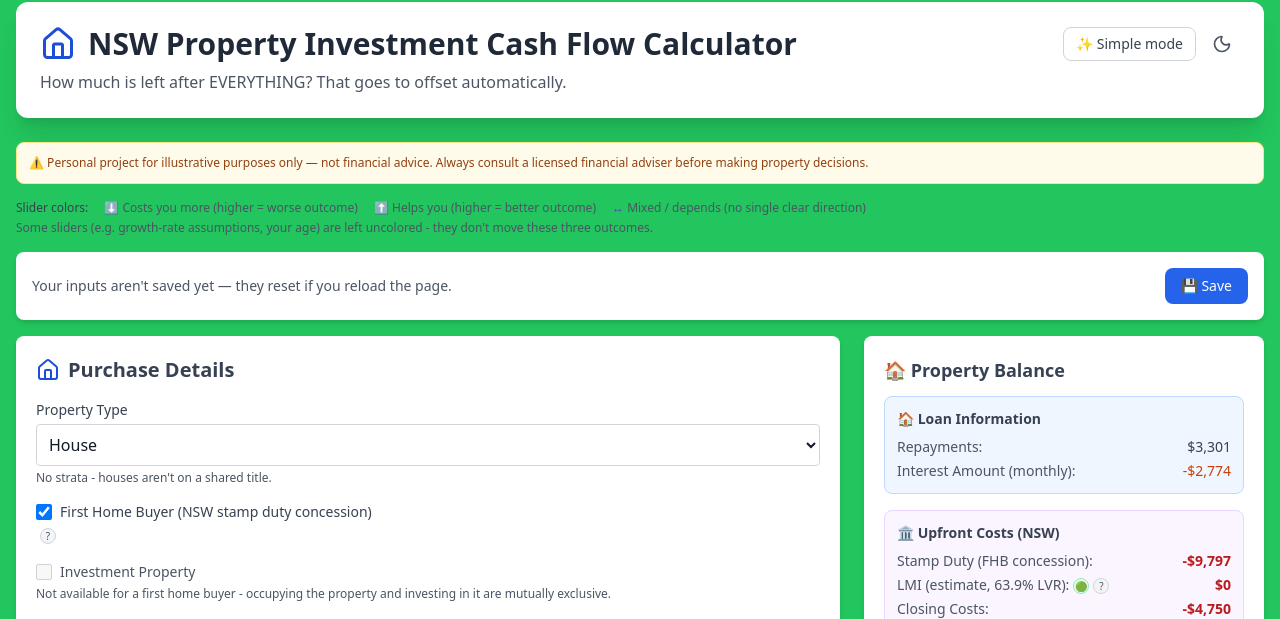
Test case: First Home Buyer / Investment Property mutual exclusion (TODO-38/44) › checking Investment Property (with FHB off) disables FHB and seeds Land Tax/Property Management
Step 1. Click the checkbox labelled "First Home Buyer (NSW stamp duty concession)" → (44, 512), box [36,504,52,520]
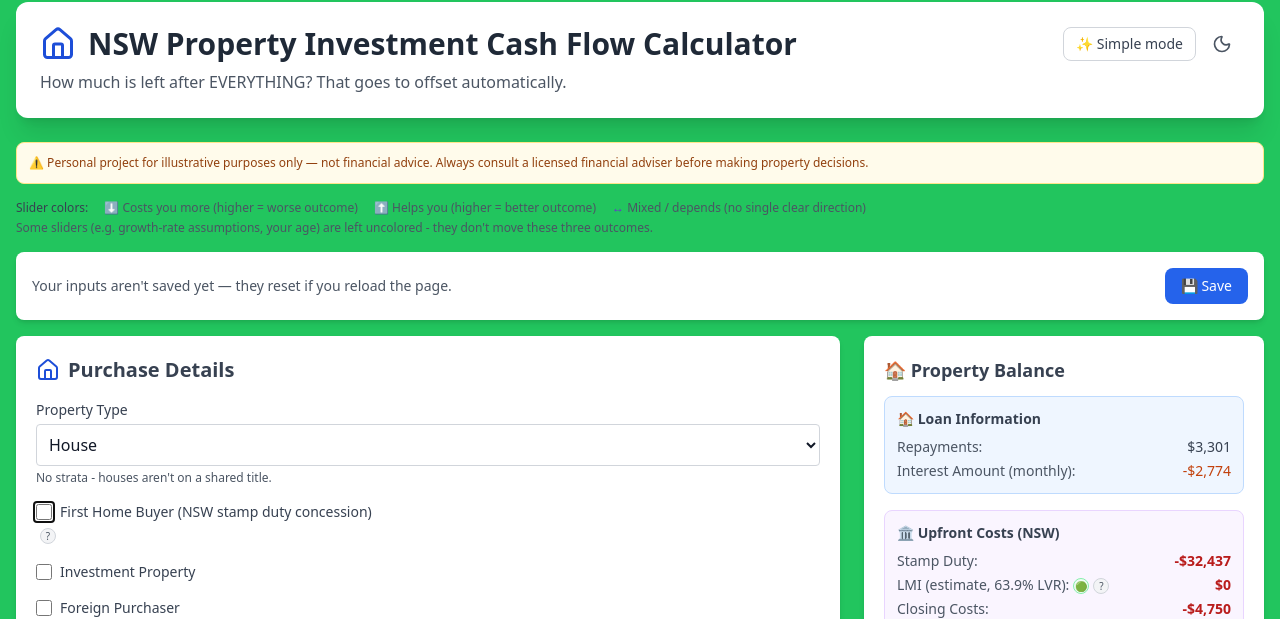
Step 2. Click the checkbox labelled "Investment Property" → (44, 572), box [36,564,52,580]
(page scrolled)
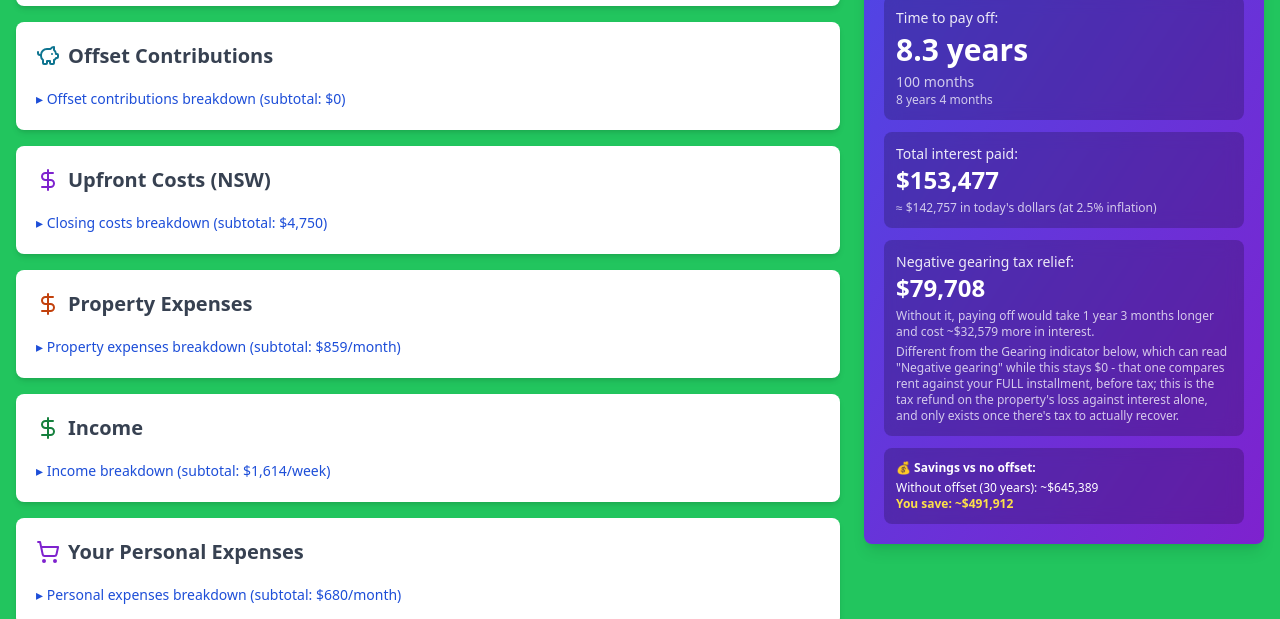
Step 3. Click the button "▸ Property expenses breakdown (subtotal: $859/month)" → (218, 347), box [36,337,401,357]
(page scrolled)
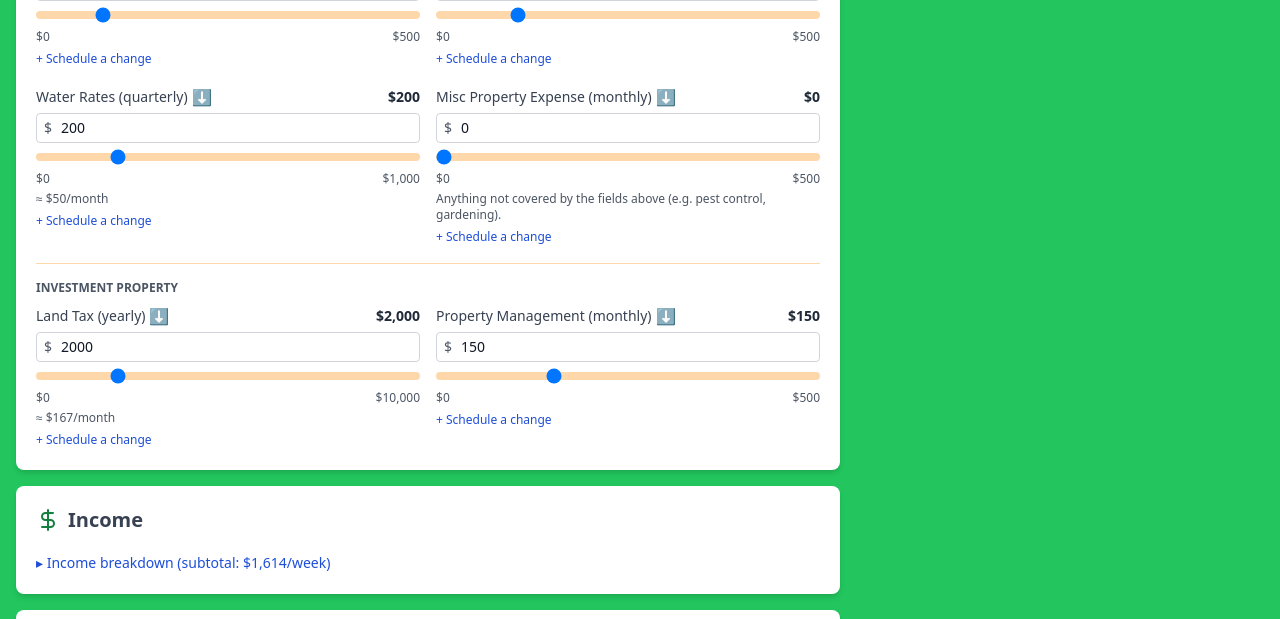
Expected: the number field labelled "Land Tax (yearly)" holds "2000", [36,332,420,362]
Expected: the number field labelled "Property Management (monthly)" holds "150", [436,332,820,362]
